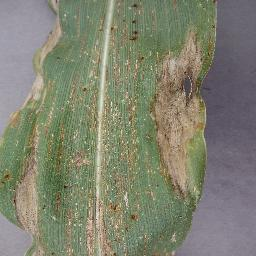Corn_Blight: (151, 25, 219, 203), (0, 77, 47, 256), (66, 10, 99, 254), (102, 174, 141, 255), (28, 0, 64, 80), (122, 69, 147, 173), (50, 81, 64, 254), (143, 215, 189, 255), (107, 18, 122, 127), (124, 1, 146, 70), (102, 128, 119, 172)
